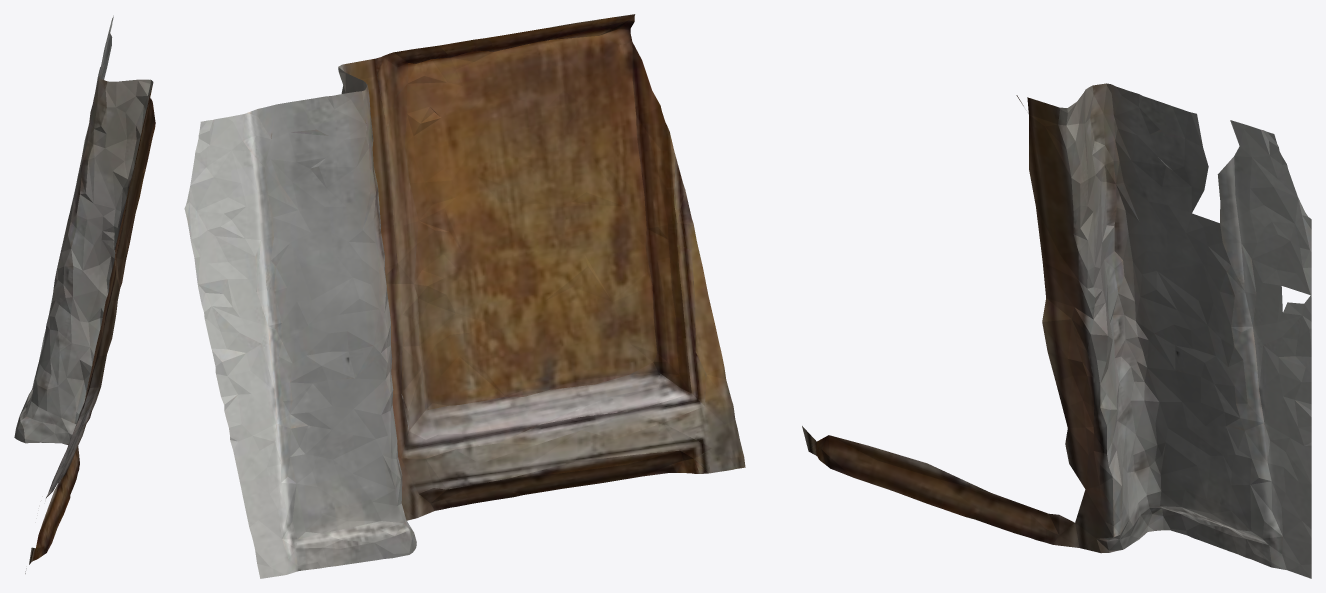
3 views of the same model, side by side, from view 1: azimuth 30°, elevation 25°; view 2: azimuth 150°, elevation 25°; view 3: azimuth 270°, elevation 25° (orthographic). The views are drawn at different scales.
Bounding box in the file's own units: 0.6688 × 0.8374 × 0.8374.
Materials: 3 (3 with a texture image).
